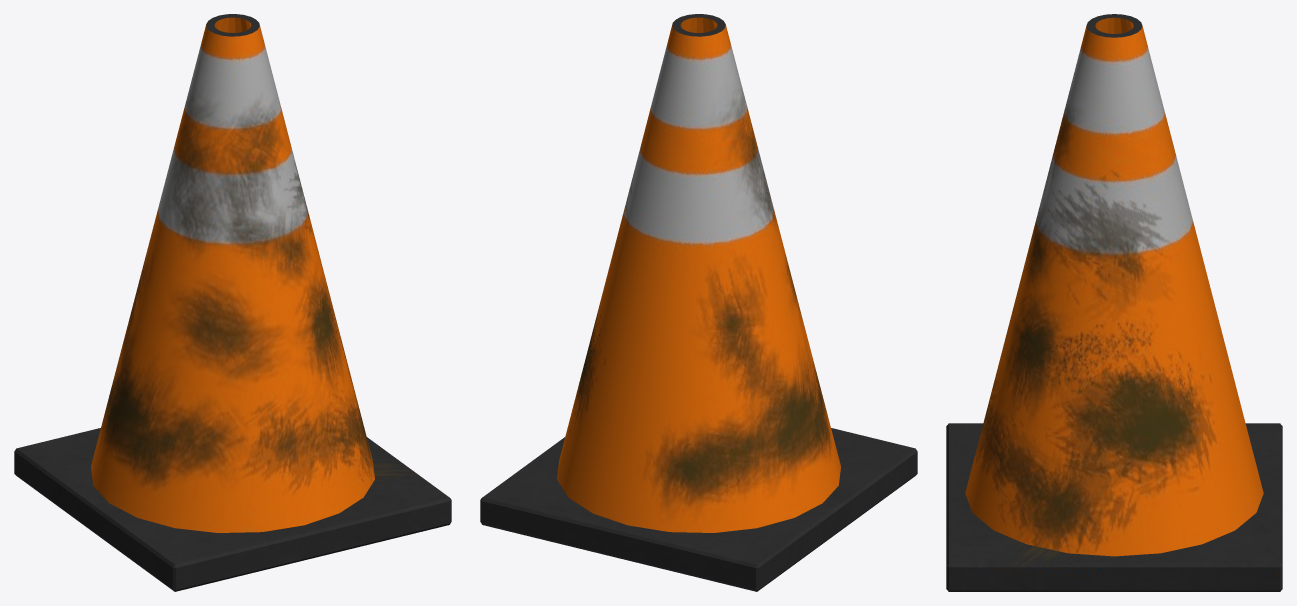
File: Dirty cone.glb
3 views of the same model, side by side, from view 1: azimuth 30°, elevation 25°; view 2: azimuth 150°, elevation 25°; view 3: azimuth 270°, elevation 25° (orthographic). The views are drawn at different scales.
Parts seen in each view (by area): view 1: pCone1, pCube1; view 2: pCone1, pCube1; view 3: pCone1, pCube1.
Part boxes in pixels (left/top/right/bottom): pCone1: left=91, top=14, right=374, bottom=532; pCube1: left=14, top=428, right=451, bottom=591; pCone1: left=557, top=14, right=840, bottom=532; pCube1: left=480, top=428, right=917, bottom=591; pCone1: left=965, top=14, right=1263, bottom=556; pCube1: left=946, top=423, right=1282, bottom=591.
Size of the model in its own units: 1.23 by 2 by 1.23.
1 material, 1 textured.
